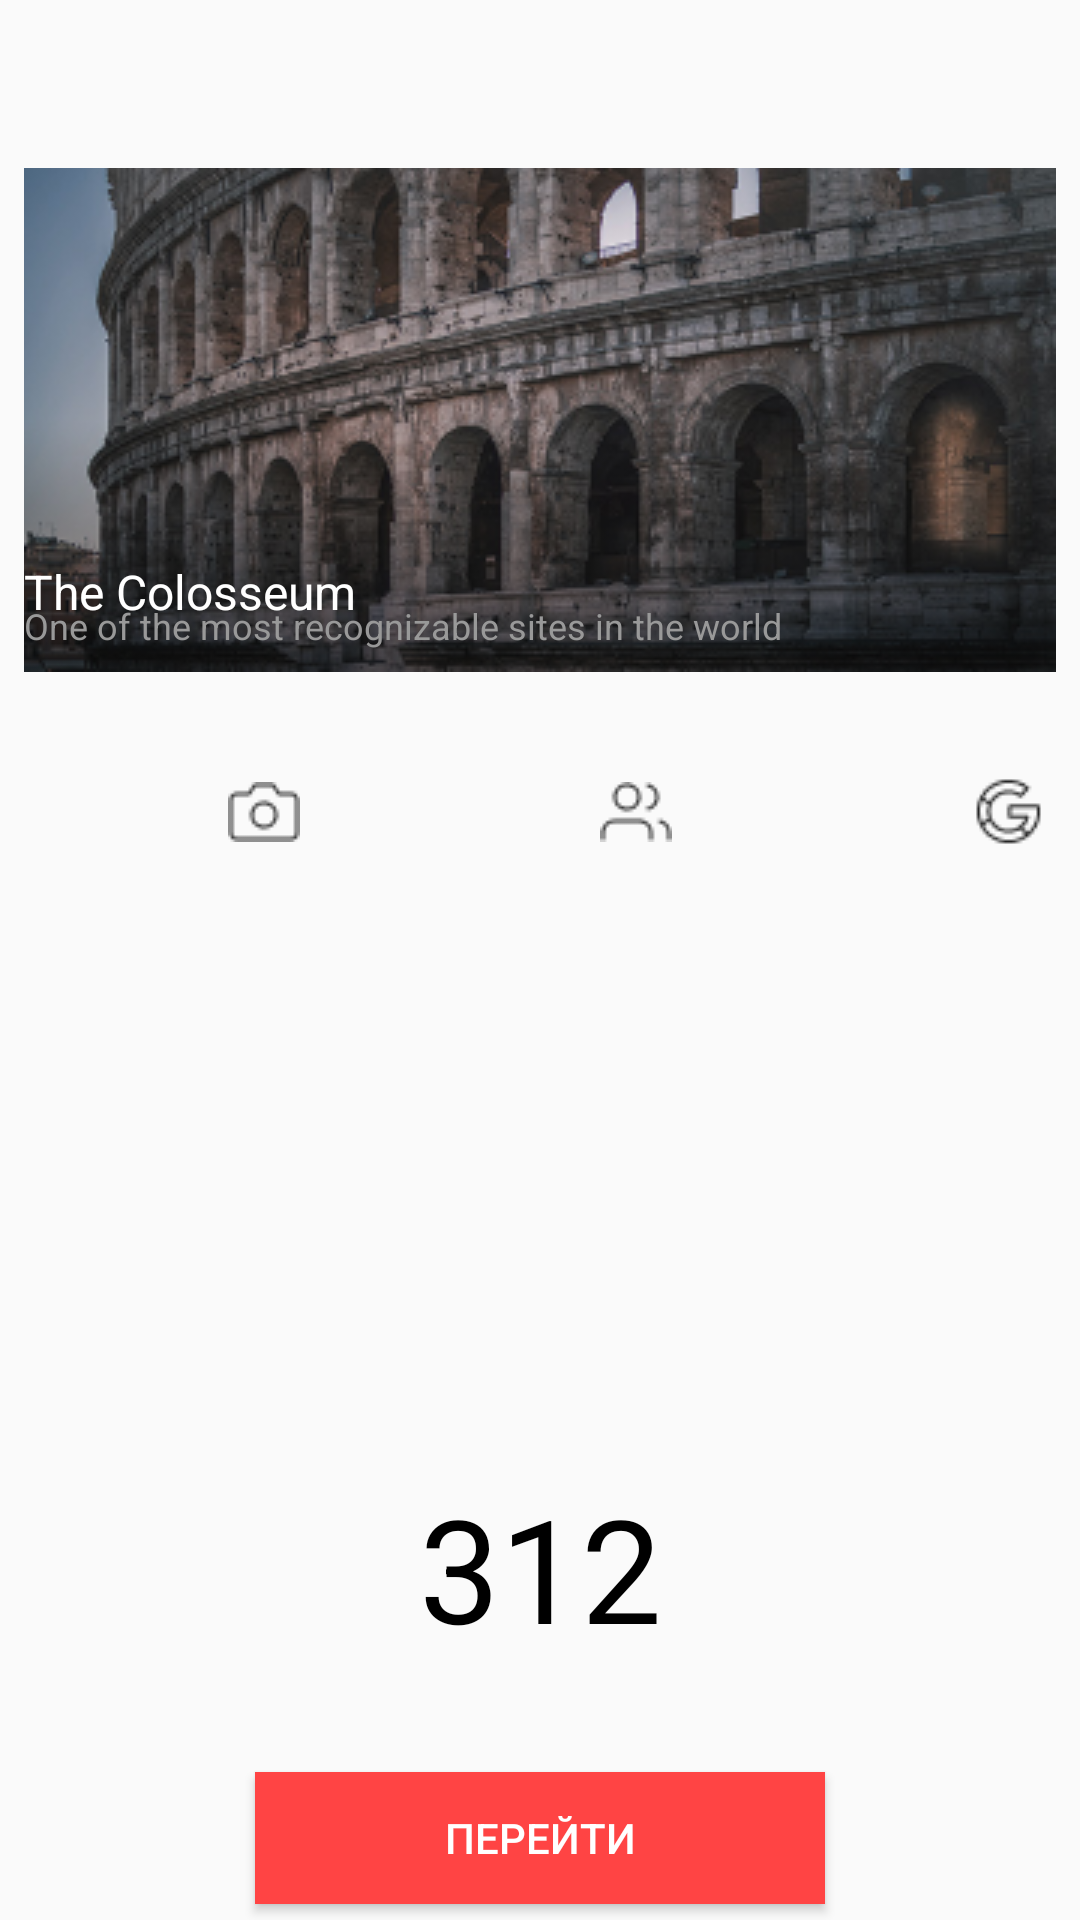

Icon bounding boxes for this 1080×1920 phone screenshot, format (x1, y1, x2, y2):
camera: (228, 782, 300, 842)
gruppy: (600, 782, 672, 842)
